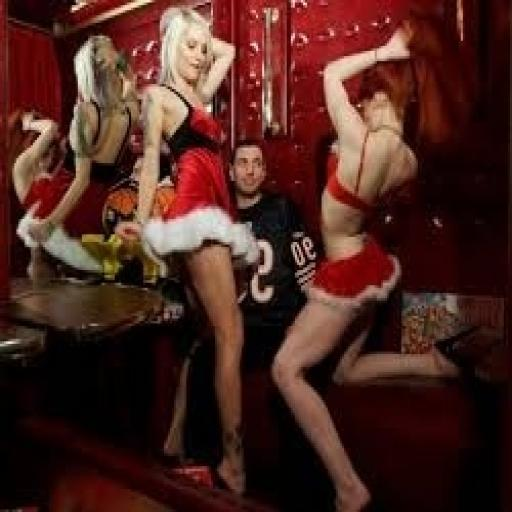dancing: (268, 16, 465, 510), (115, 5, 264, 499)
